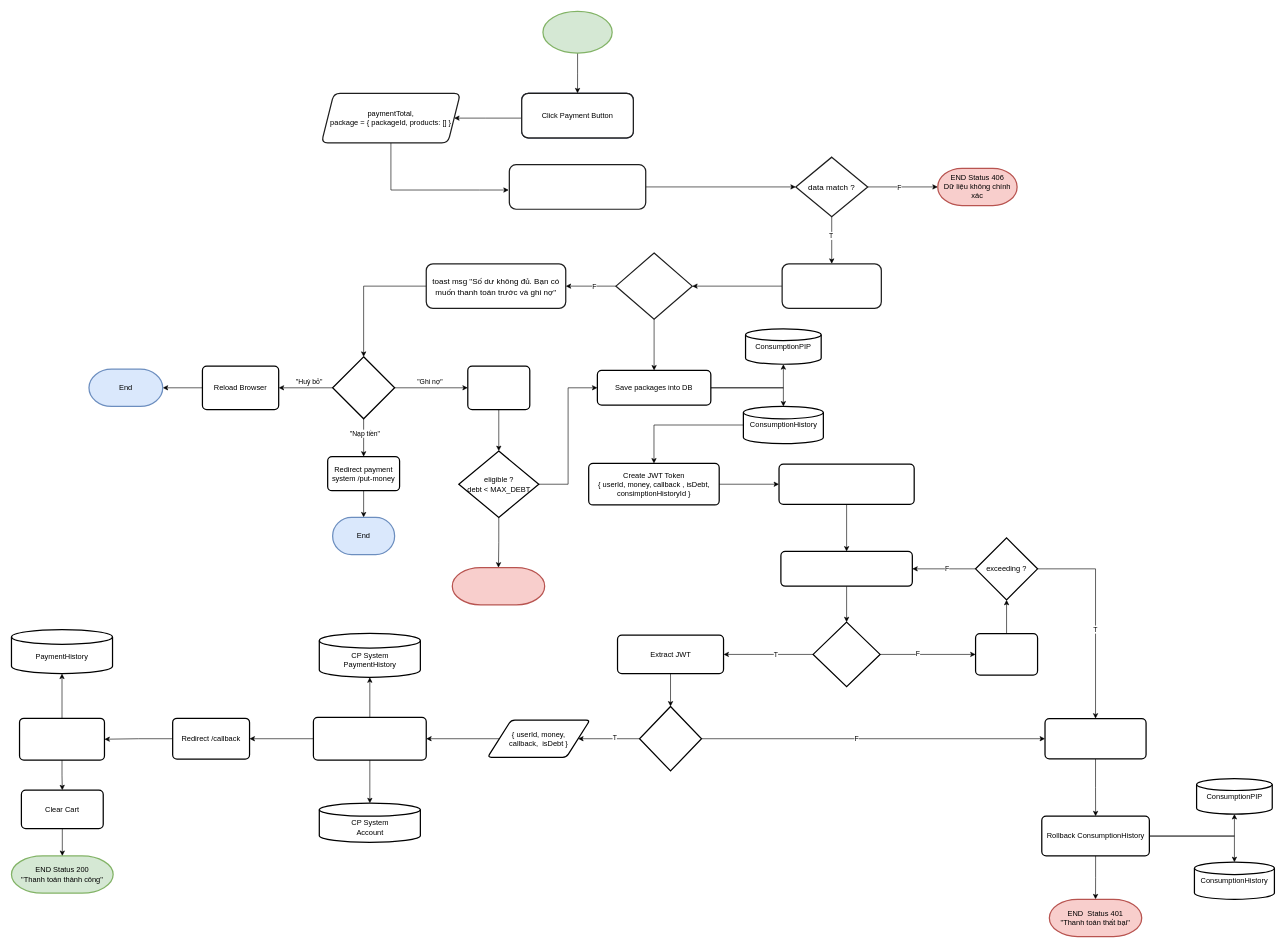
Some shapes in this 1285 by 947 pixel diagram are drawn without their labels. The shapes that lost their labels are listed below. From the top down, each one's centre as x and y in pixels, then its label:
point (577, 32): Start
point (577, 187): Check & recalculate data again
point (654, 286): enough balance?
point (831, 286): Check user balance
point (363, 387): Action Button
point (498, 387): Check user debt info
point (846, 484): Redirect cp payment system /payment?consumptionId&fail-callback
point (498, 586): END Status 406 "Bạn đã đạt ngưỡng cho phép ghi nợ"
point (846, 569): Login CP System
point (846, 654): Login Success?
point (1006, 654): Check failed login times ?
point (62, 738): Save PaymentHistory
point (369, 738): Save payment history & update balance
point (670, 738): Decode successfully ?
point (1095, 738): Redirect /fail-callback
